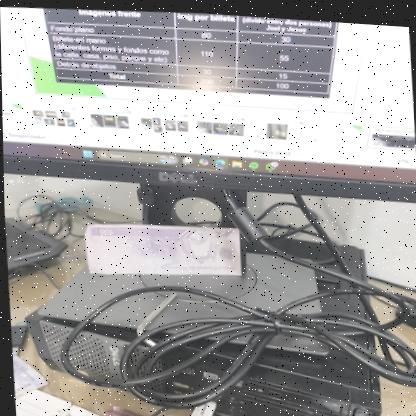one_hundred-back-vef: (82, 218, 241, 282)
